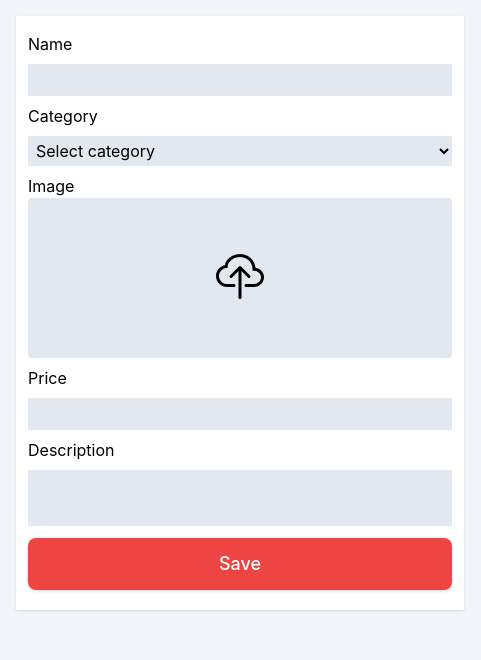
Product Component › displays an error message if required fields are missing on form submission
This screenshot has width=481, height=660.
Click the button "Save" at (240, 564), box 28,538 -> 452,590
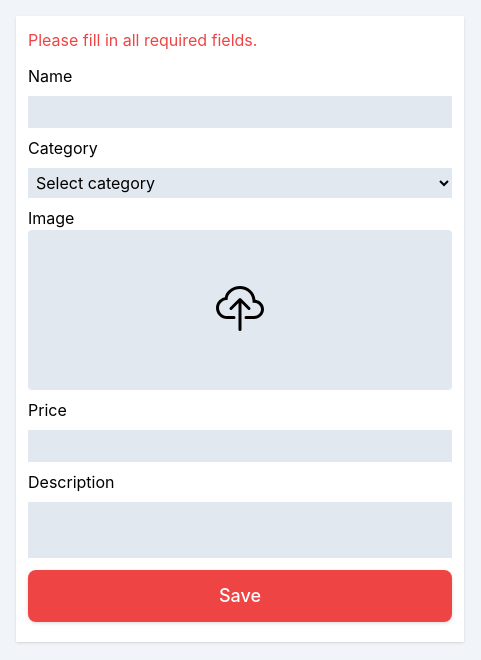
Expected: the text "Please fill in all required fields." is shown, 28,30 -> 257,50
